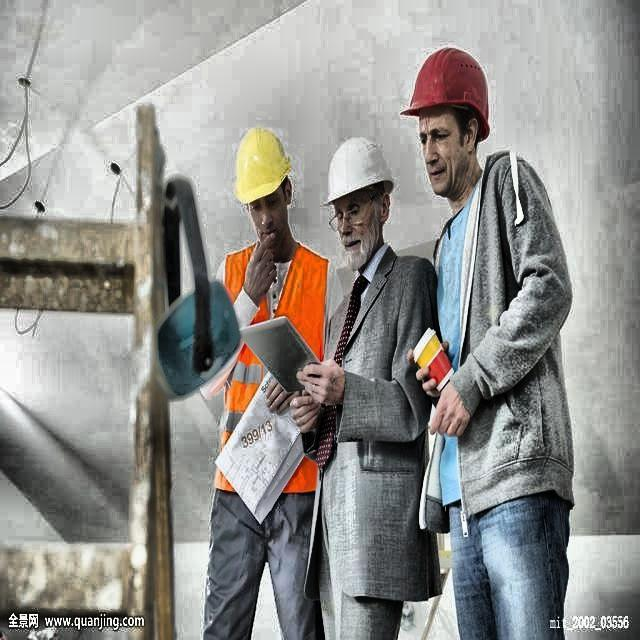person: (402, 46, 576, 606), (310, 119, 410, 624), (225, 120, 316, 640)
